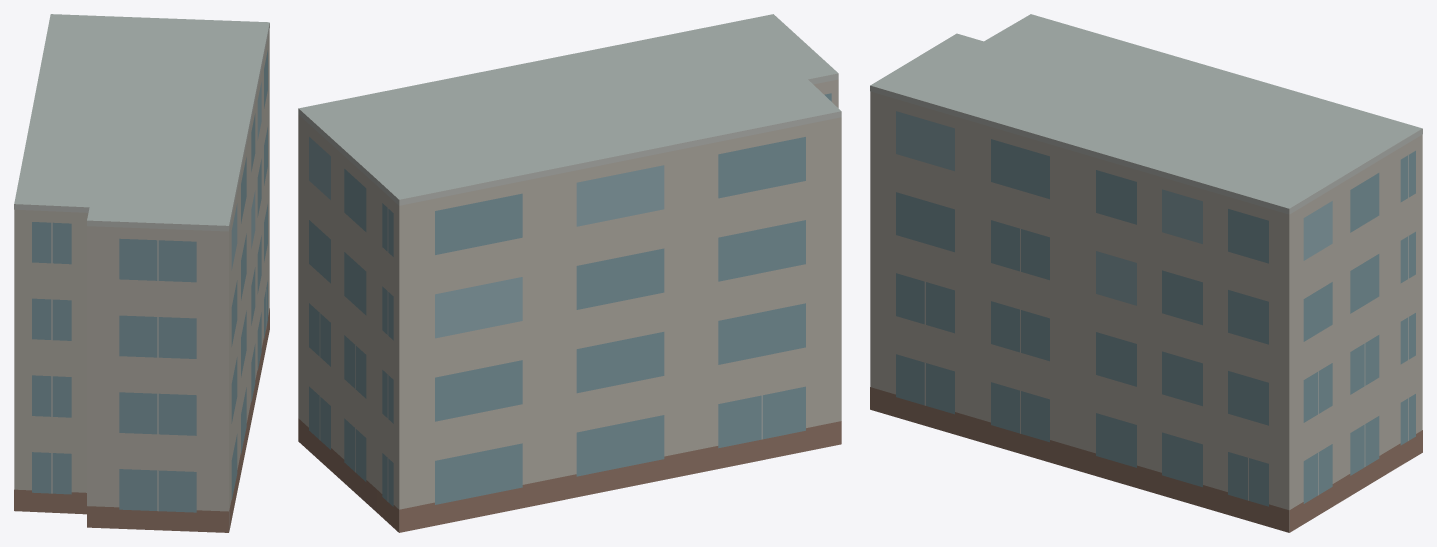
Rendered from survey-upis-32799395.glb.
3 views of the same model, side by side, from view 1: azimuth 30°, elevation 25°; view 2: azimuth 150°, elevation 25°; view 3: azimuth 270°, elevation 25° (orthographic). The views are drawn at different scales.
Parts seen in each view (by area): view 1: survey-upis-32799395.tmp; view 2: survey-upis-32799395.tmp; view 3: survey-upis-32799395.tmp.
Boxes of the visible parts, <box> form: survey-upis-32799395.tmp: <box>14,14,269,532</box>; survey-upis-32799395.tmp: <box>298,14,841,532</box>; survey-upis-32799395.tmp: <box>870,14,1422,532</box>.
Bounding box in the file's own units: 17.28 × 13.4 × 20.72.
